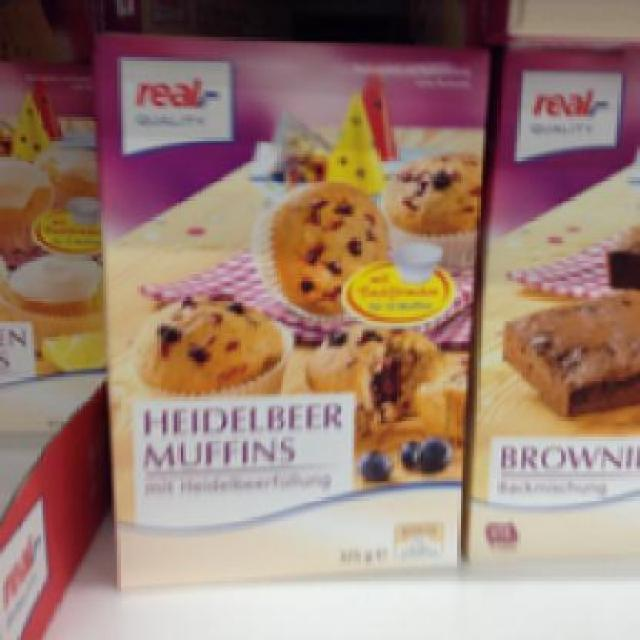Cake: (80, 26, 477, 588), (482, 34, 638, 577)
